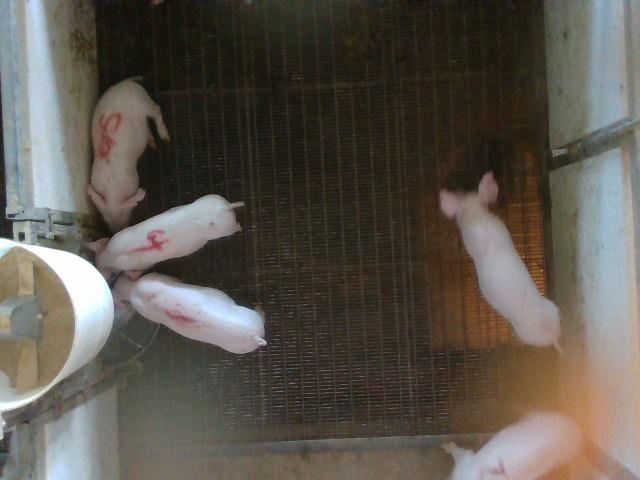pig-1: (112, 272, 266, 354)
pig-4: (92, 195, 244, 278)
pig-5: (88, 78, 170, 232)
